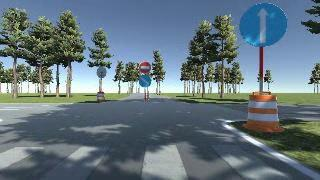go_ahead: (237, 2, 286, 47)
